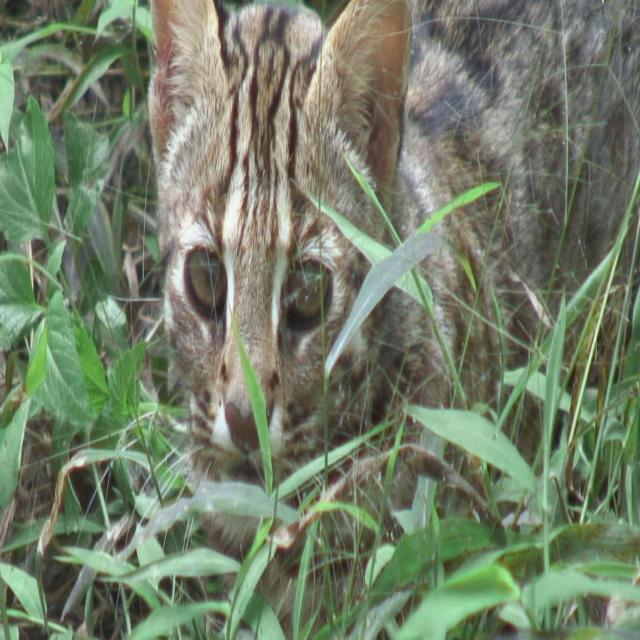leopard: (151, 1, 430, 420)
